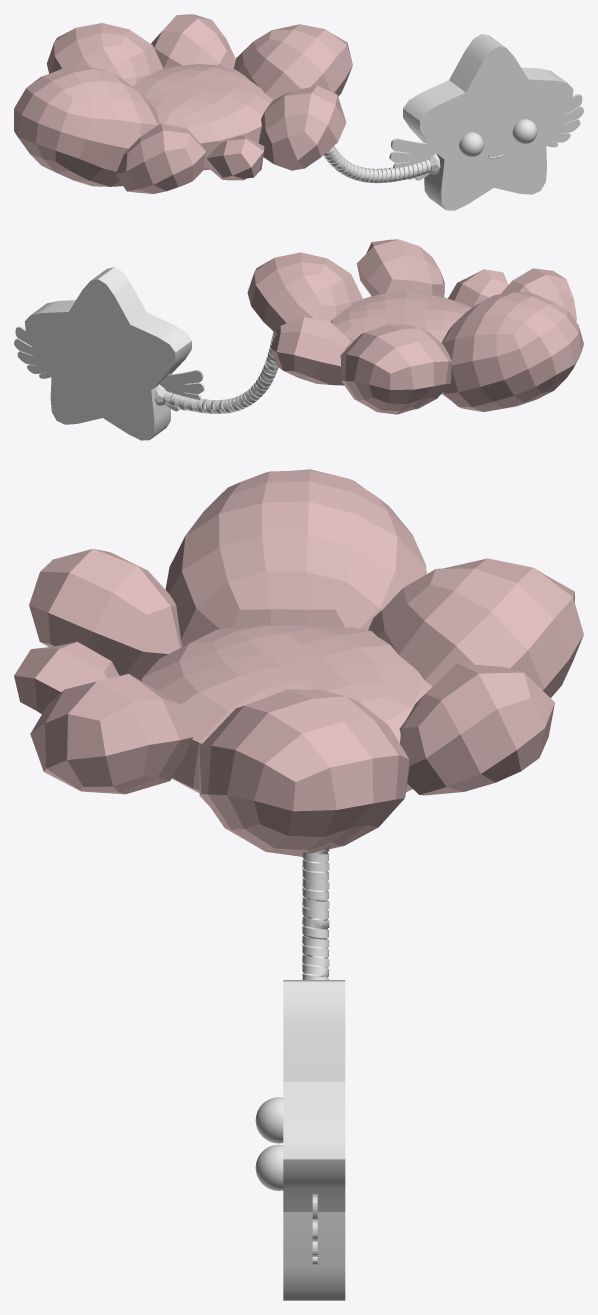
The model's file is object_cloud_3.fbx.
3 views of the same model, one above another, from view 1: azimuth 30°, elevation 25°; view 2: azimuth 150°, elevation 25°; view 3: azimuth 270°, elevation 25° (orthographic). The views are drawn at different scales.
Parts seen in each view (by area): view 1: Sphere007, Star001, Line002, Helix001, Sphere009, Sphere010; view 2: Sphere007, Star001, Helix001, Line002; view 3: Sphere007, Star001, Helix001, Sphere010, Sphere009.
Boxes of the visible parts, box(x1,y1,x2,y2) form: Sphere007: box(14, 14, 352, 193); Star001: box(403, 34, 573, 210); Line002: box(389, 94, 583, 180); Helix001: box(323, 146, 431, 183); Sphere009: box(512, 119, 537, 144); Sphere010: box(459, 132, 483, 157); Sphere007: box(247, 239, 583, 414); Star001: box(24, 267, 191, 440); Helix001: box(163, 332, 278, 413); Line002: box(14, 326, 204, 411); Sphere007: box(14, 469, 583, 856); Star001: box(283, 980, 345, 1300); Helix001: box(302, 846, 329, 979); Sphere010: box(255, 1097, 283, 1143); Sphere009: box(255, 1144, 283, 1190).
Size of what is drawn, in the model's own units: 213 by 81.14 by 102.
